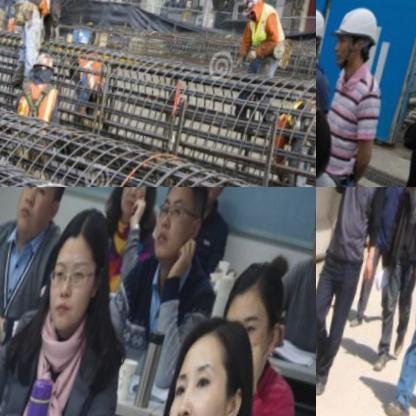head: (158, 305, 273, 416), (215, 242, 302, 382), (37, 204, 118, 330), (148, 187, 216, 264), (9, 187, 73, 238), (109, 187, 169, 235), (190, 187, 235, 213)
helmet: (333, 0, 388, 71), (30, 47, 65, 87), (316, 3, 333, 66), (240, 0, 270, 21)
